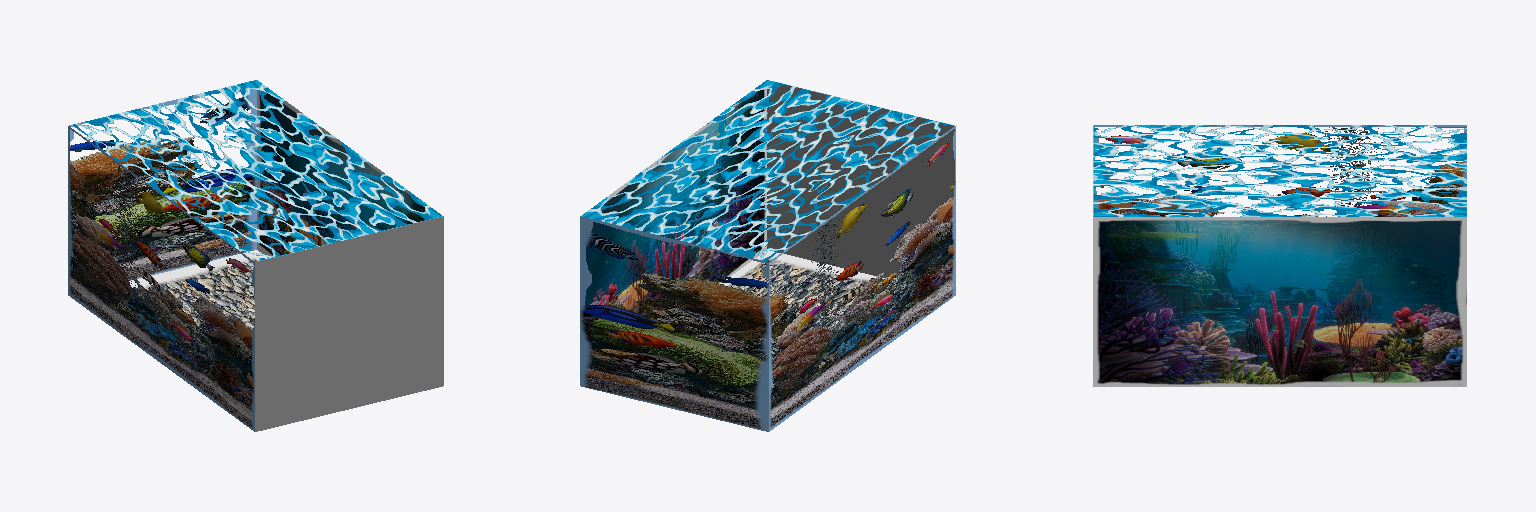
3 views of the same model, side by side, from view 1: azimuth 30°, elevation 25°; view 2: azimuth 150°, elevation 25°; view 3: azimuth 270°, elevation 25° (orthographic).
Parts seen in each view (by area): view 1: Box001; view 2: Box001; view 3: Box001.
Part boxes in pixels (left/top/right/bottom): Box001: left=68, top=80, right=443, bottom=431; Box001: left=580, top=80, right=955, bottom=431; Box001: left=1093, top=125, right=1466, bottom=386.
Size of the model in its own units: 28.83 by 24.87 by 49.47.
Materials: 6 (5 with a texture image).